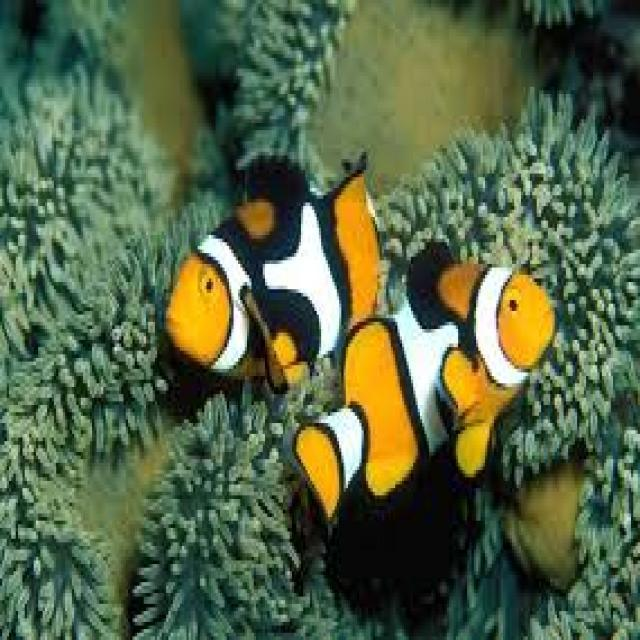ClownFish: (296, 246, 560, 515), (158, 152, 406, 393)
